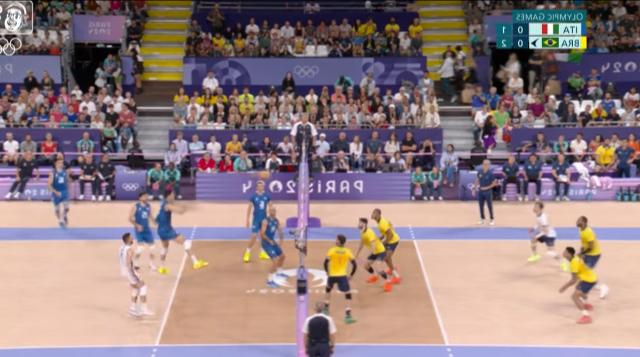Levantador: (322, 233, 356, 313), (250, 184, 268, 226)
Libero: (118, 232, 150, 318), (530, 203, 556, 257)
bola: (258, 168, 270, 182)
